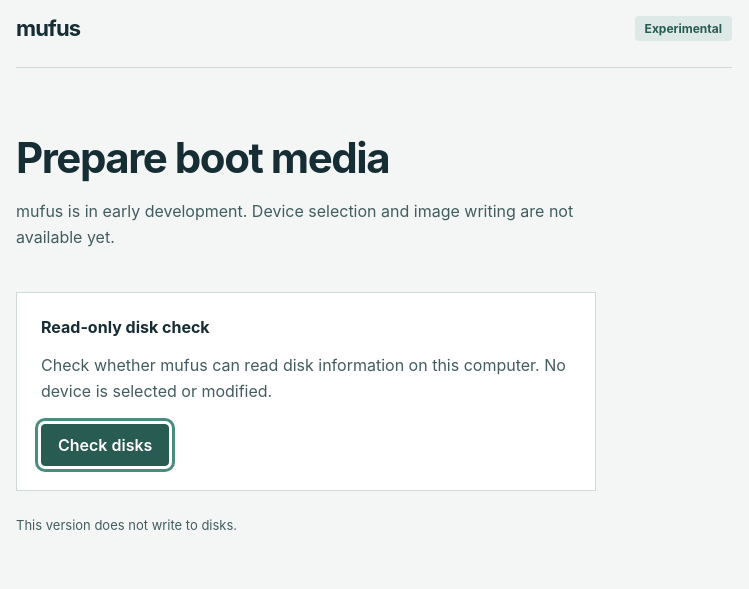
Test case: keeps focus and prevents duplicate checks while one is pending
What coordinates should you click on to do the following:
click the button "Check disks"
I would click on:
 (105, 445)
Its box is [41,424,169,466].
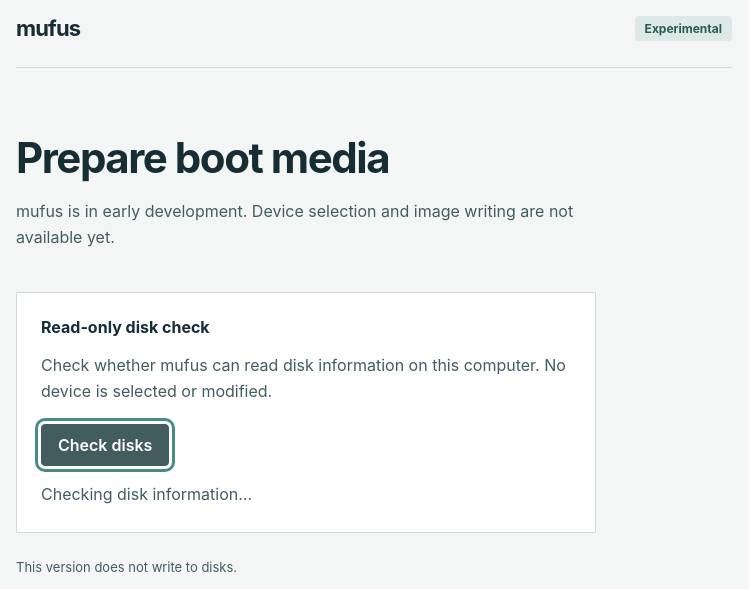
Expected: the message shows "Checking disk information", [41,484,252,504]
What coordinates should you click on to do the following:
click the button "Check disks"
I would click on:
 (105, 445)
Its box is [41,424,169,466].
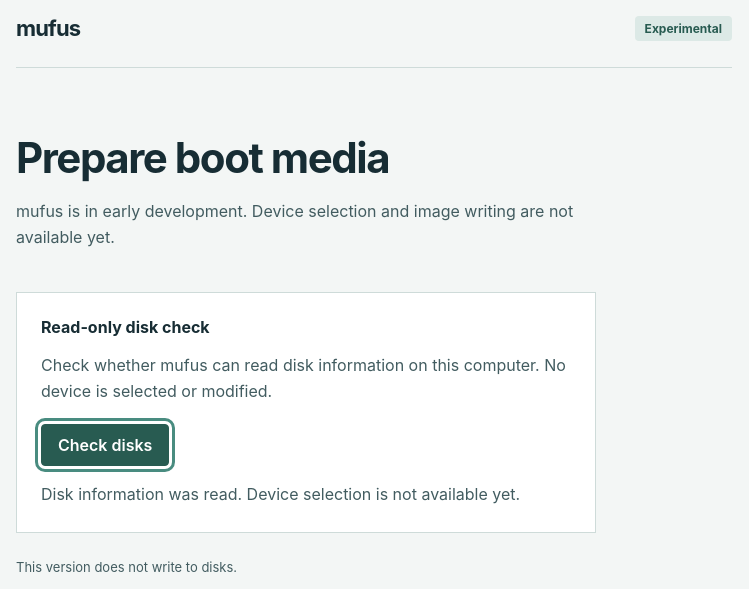
Expected: the message shows "Disk information was read", [41,484,520,504]
